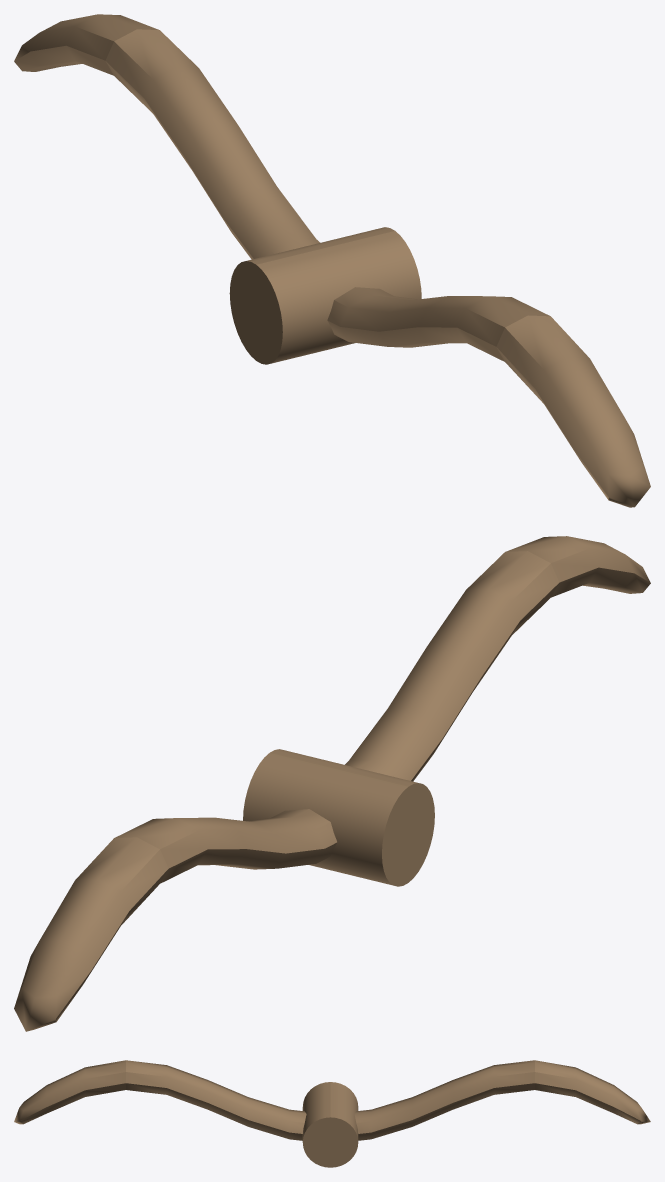
The model's file is bujak.fbx.
The picture shows the model from 3 angles, top to bottom: view 1: azimuth 30°, elevation 25°; view 2: azimuth 150°, elevation 25°; view 3: azimuth 270°, elevation 25°; orthographic projection. The views are drawn at different scales.
Parts seen in each view (by area): view 1: Cube.041; view 2: Cube.041; view 3: Cube.041.
Boxes of the visible parts, box(x1,y1,x2,y2) form: Cube.041: box(14, 14, 650, 507); Cube.041: box(14, 536, 650, 1031); Cube.041: box(14, 1060, 650, 1167).
Size of the model in its own units: 32.03 by 37.48 by 243.
Materials: 1 (1 with a texture image).
